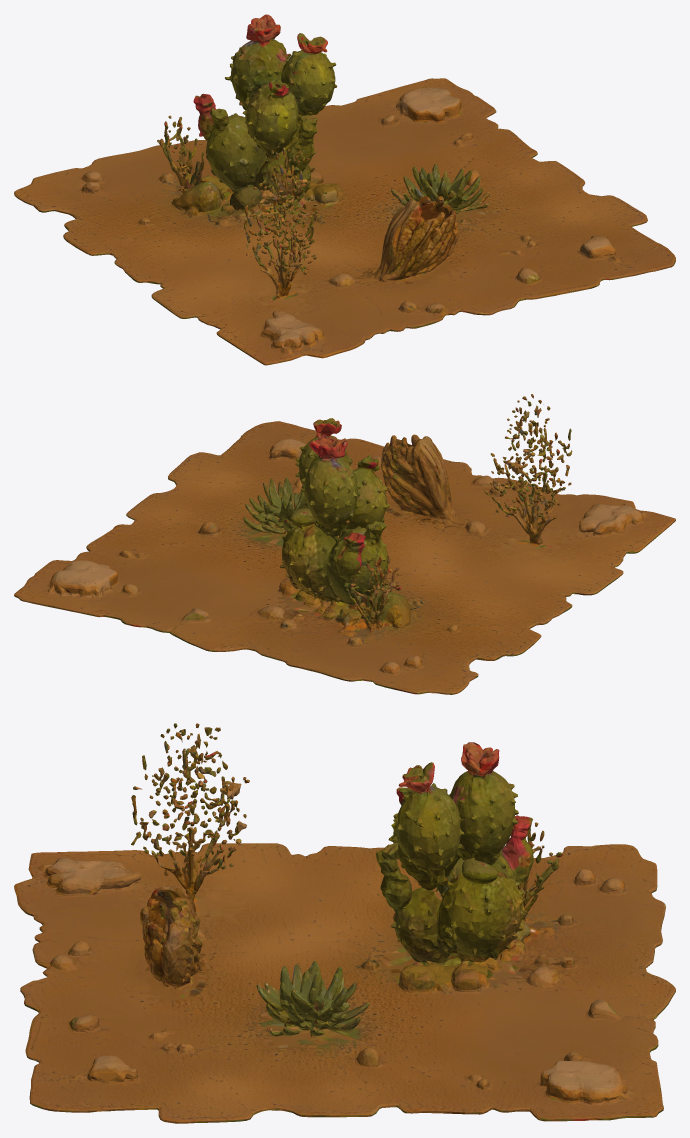
Rendered from desert-ground-5.glb.
3 views of the same model, one above another, from view 1: azimuth 30°, elevation 25°; view 2: azimuth 150°, elevation 25°; view 3: azimuth 270°, elevation 25° (orthographic). The views are drawn at different scales.
Visible parts, largest first — view 1: textured_mesh.obj; view 2: textured_mesh.obj; view 3: textured_mesh.obj.
Part boxes in pixels (x1,y1,x2,y2): textured_mesh.obj: (14,14,675,365); textured_mesh.obj: (14,394,675,694); textured_mesh.obj: (14,723,675,1123).
Bounding box in the file's own units: 1.99 × 0.7275 × 1.98.
1 material, 1 textured.
